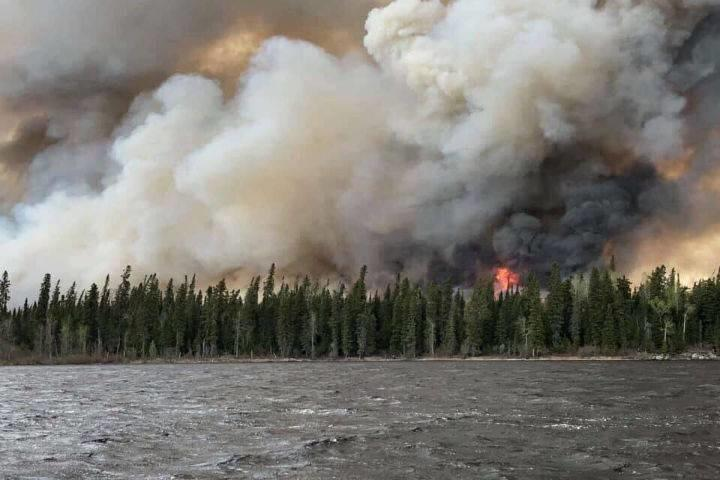smoke: (394, 8, 638, 145), (136, 129, 395, 243)
